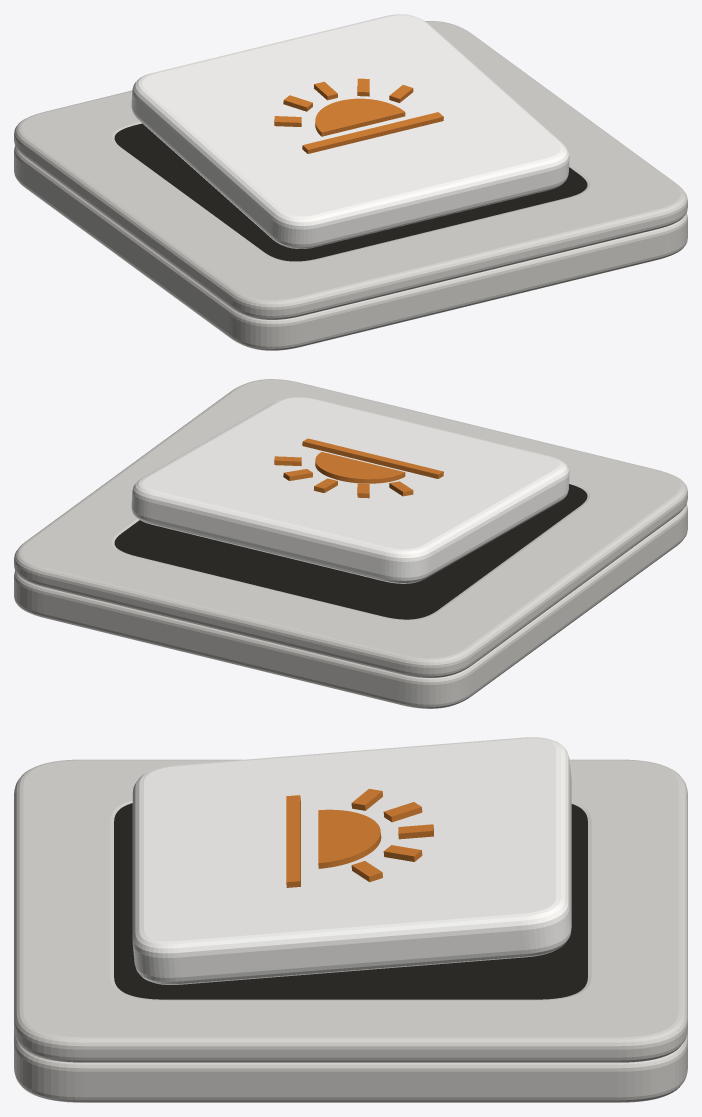
File: interruptor-de-pared-tarde.glb
The picture shows the model from 3 angles, top to bottom: view 1: azimuth 30°, elevation 25°; view 2: azimuth 150°, elevation 25°; view 3: azimuth 270°, elevation 25°; orthographic projection. The views are drawn at different scales.
Parts seen in each view (by area): view 1: tecla, marco, placa-base, mecanismo, tarde-sol, tarde-horizonte; view 2: marco, tecla, placa-base, mecanismo, tarde-sol, tarde-horizonte; view 3: marco, tecla, placa-base, mecanismo, tarde-sol, tarde-horizonte.
Boxes of the visible parts, x1=… form: tecla: x1=131, y1=14, x2=569, y2=248; marco: x1=14, y1=21, x2=687, y2=319; placa-base: x1=14, y1=146, x2=687, y2=350; mecanismo: x1=114, y1=123, x2=587, y2=261; tarde-sol: x1=315, y1=98, x2=405, y2=136; tarde-horizonte: x1=302, y1=112, x2=443, y2=153; marco: x1=14, y1=379, x2=687, y2=677; tecla: x1=131, y1=397, x2=569, y2=583; placa-base: x1=14, y1=504, x2=687, y2=708; mecanismo: x1=114, y1=484, x2=587, y2=619; tarde-sol: x1=315, y1=452, x2=405, y2=483; tarde-horizonte: x1=302, y1=438, x2=443, y2=478; marco: x1=14, y1=759, x2=687, y2=1062; tecla: x1=132, y1=737, x2=571, y2=984; placa-base: x1=14, y1=1030, x2=687, y2=1102; mecanismo: x1=114, y1=803, x2=587, y2=999; tarde-sol: x1=318, y1=809, x2=381, y2=868; tarde-horizonte: x1=286, y1=795, x2=300, y2=887.
Size of the model in its own units: 0.086 by 0.0197 by 0.086.
